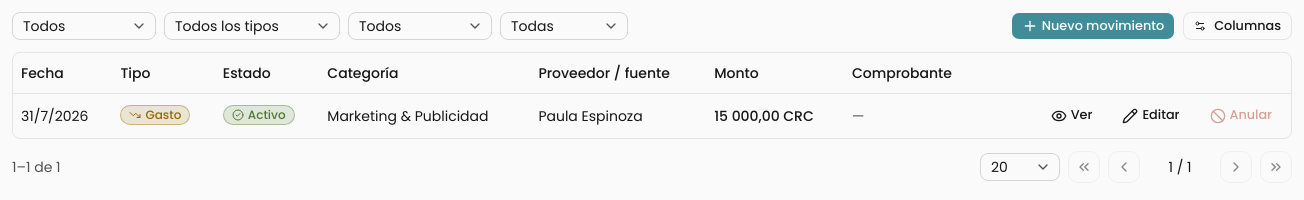
FinanceEntriesTable — anular reemplaza al borrado › un movimiento sin asiento no se puede anular todavía
Focus the element showing "Anular". click: coordinates (1241, 116)
box: [1198,102,1283,130]
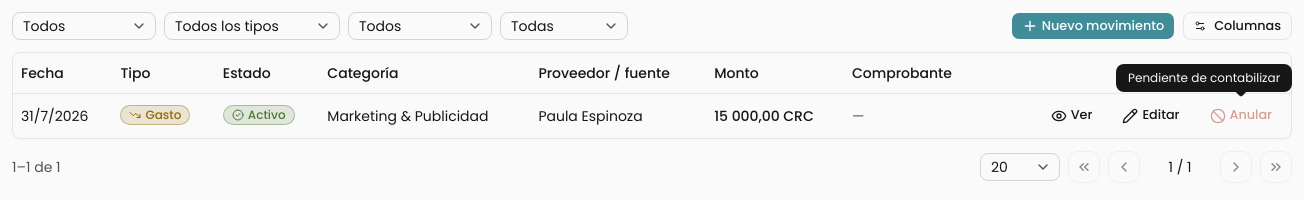
Now the text "Pendiente de contabilizar" is shown, box [1116,64,1292,92]
